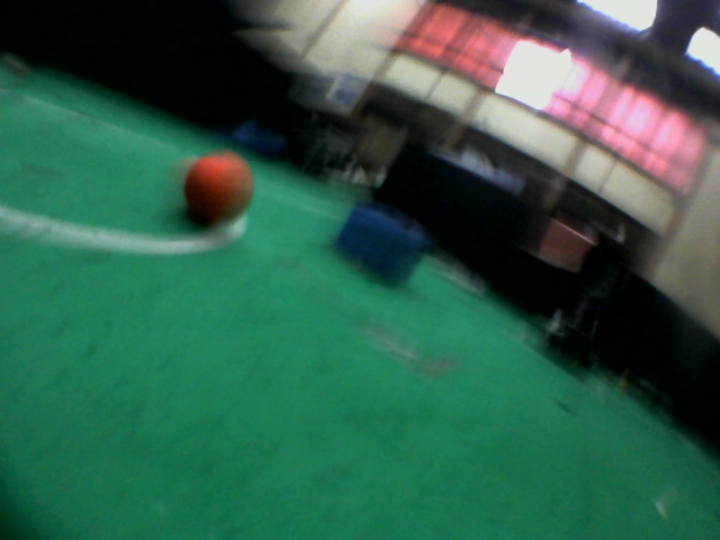bola: (177, 143, 258, 230)
